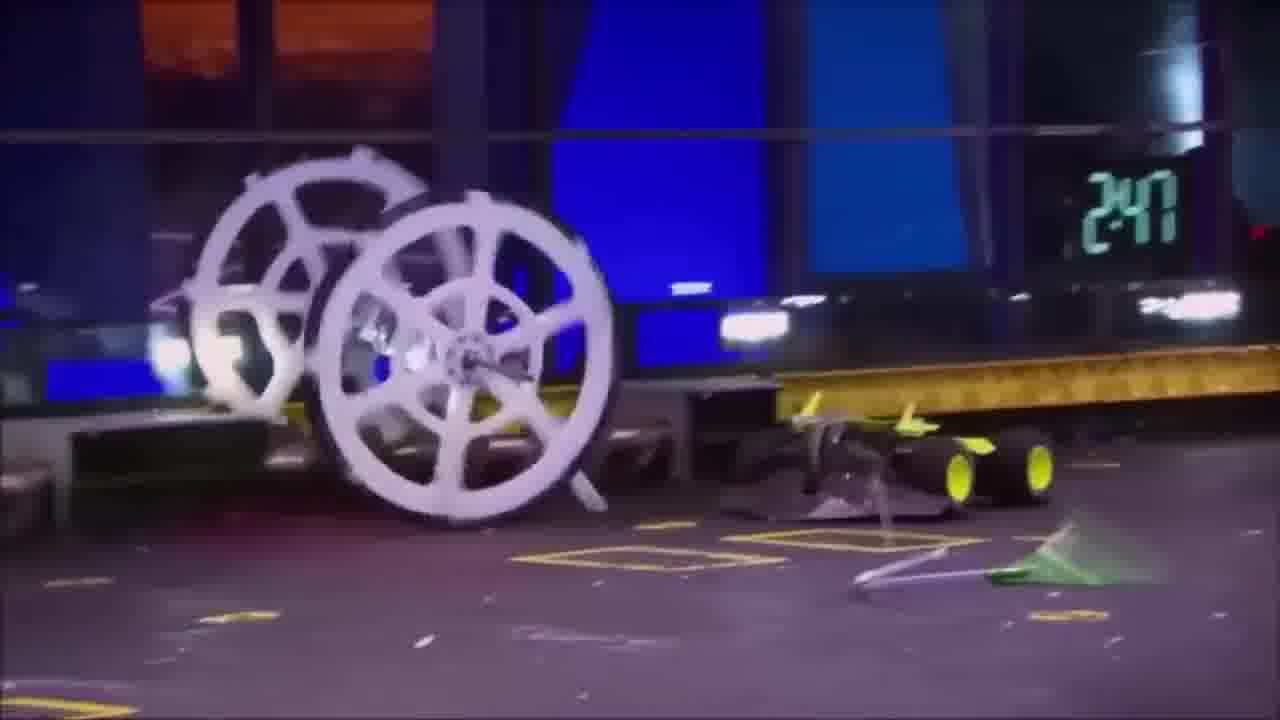combatbot: (176, 153, 619, 537), (718, 399, 1060, 531)
